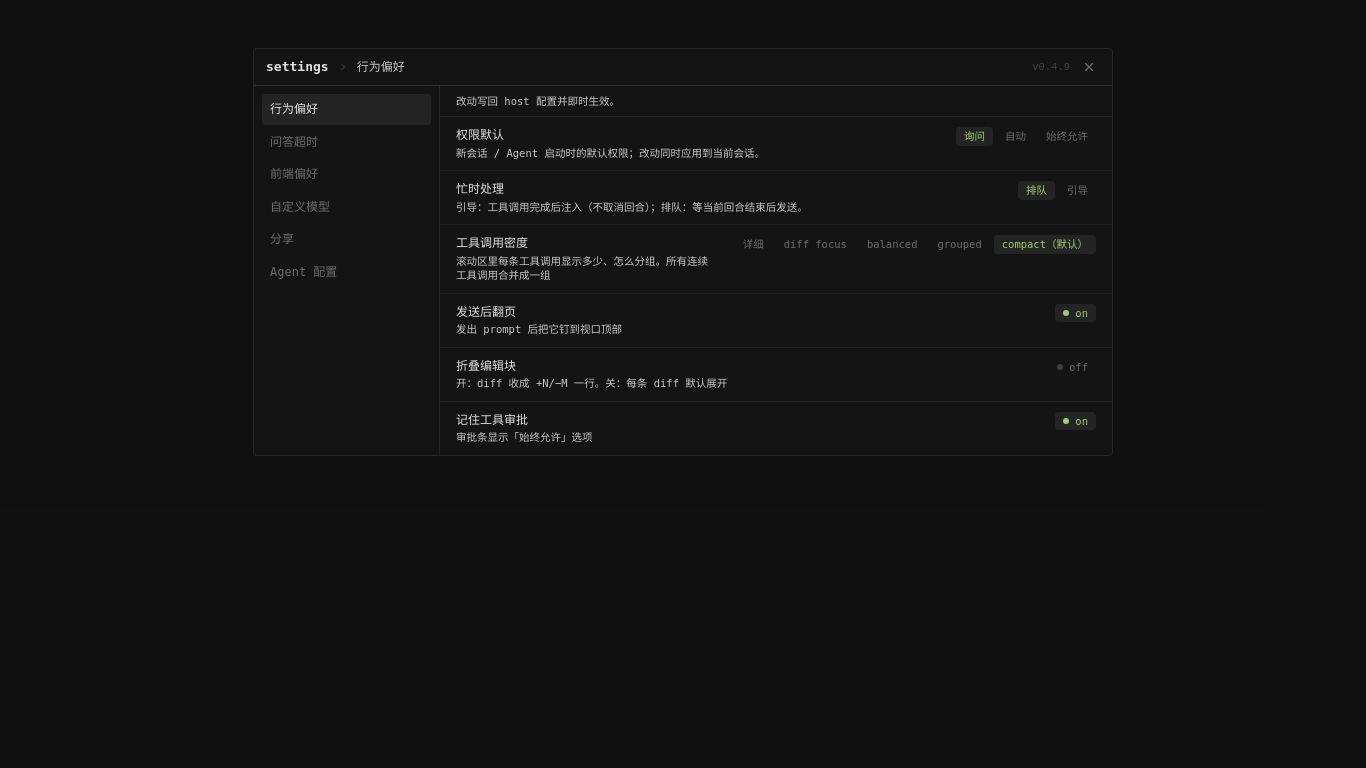
Test: SettingsModal › bool 行切换 patch 并写入 settings 缓存
Expected: the text titled "collapsed_edit_blocks" is shown, [456,359,516,373]
What coordinates should you click on to do the following:
click the button titled "diff 收成"
I would click on:
 (1072, 367)
Its box is [1049,358,1096,376].
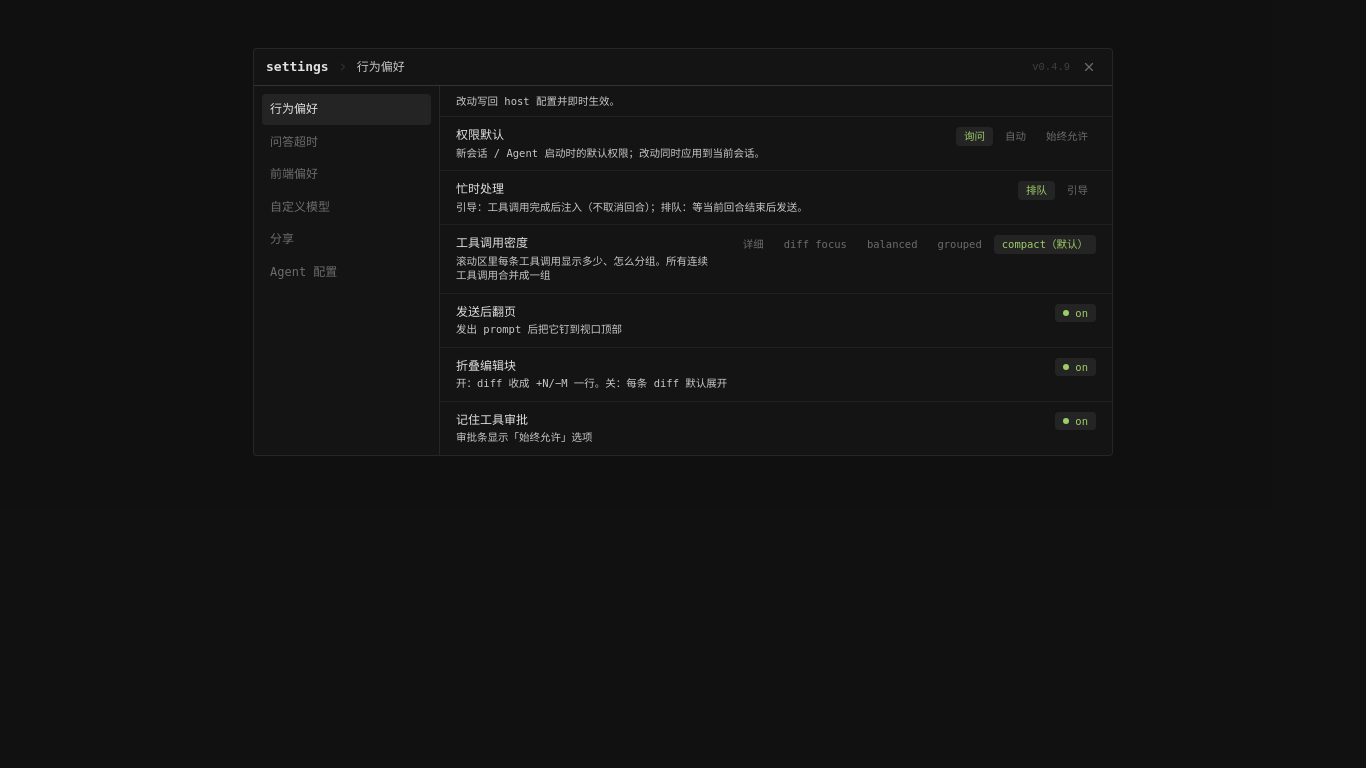
Expected: the button titled "diff 收成" in the row of "折叠编辑块" reads "on", [1055,358,1096,376]
